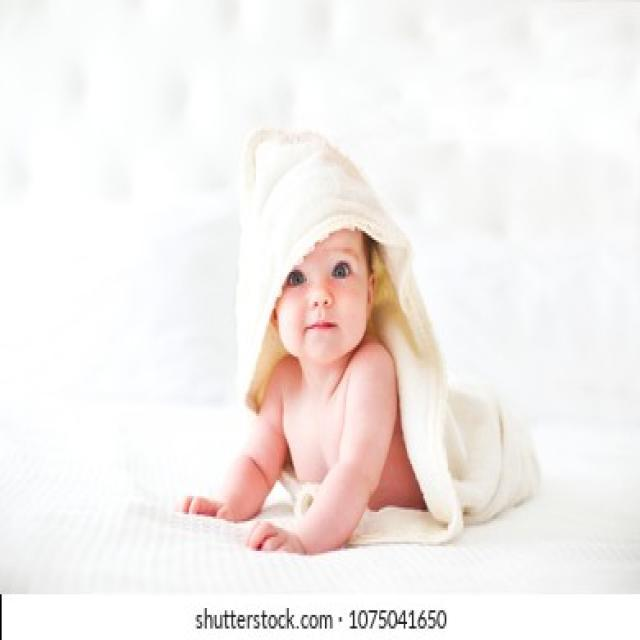non-dog: (175, 128, 525, 561)
